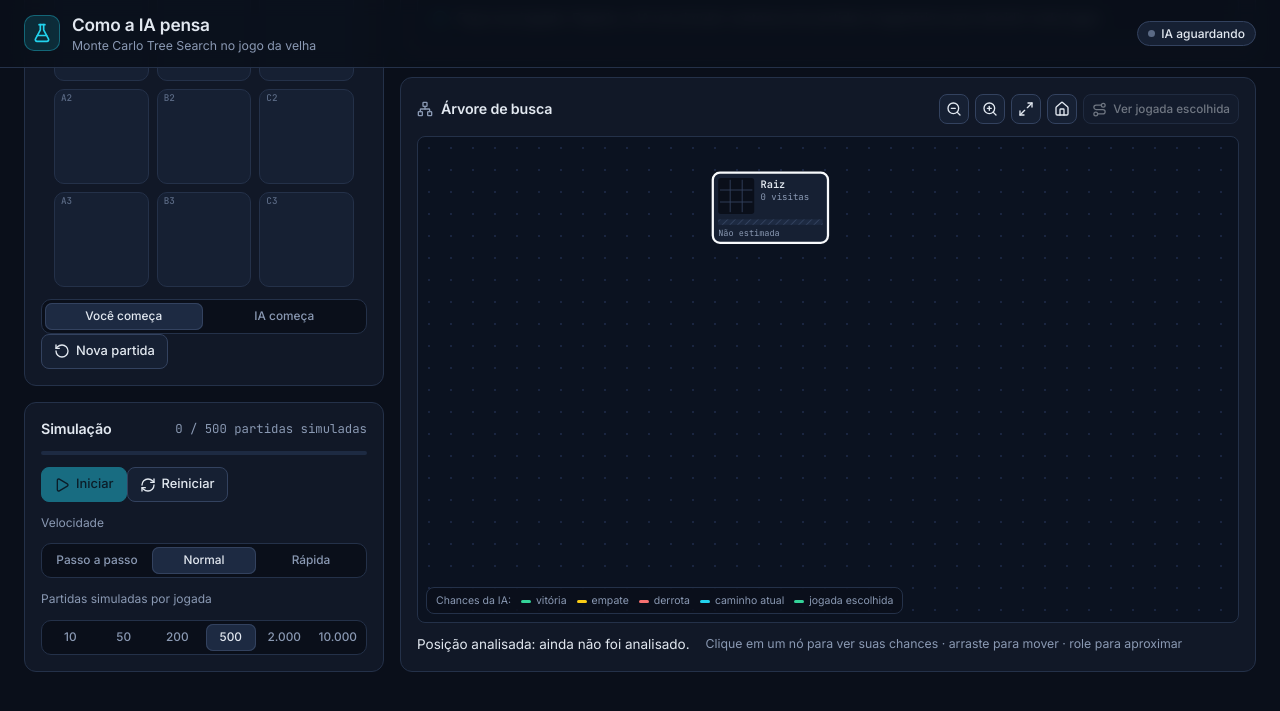
Test: the AI answers a human move with a legal MCTS move
The image size is (1280, 711).
(page scrolled)
Click the radio button labelled "Rápida". click: (311, 561)
box: x1=259 y1=547 x2=363 y2=574
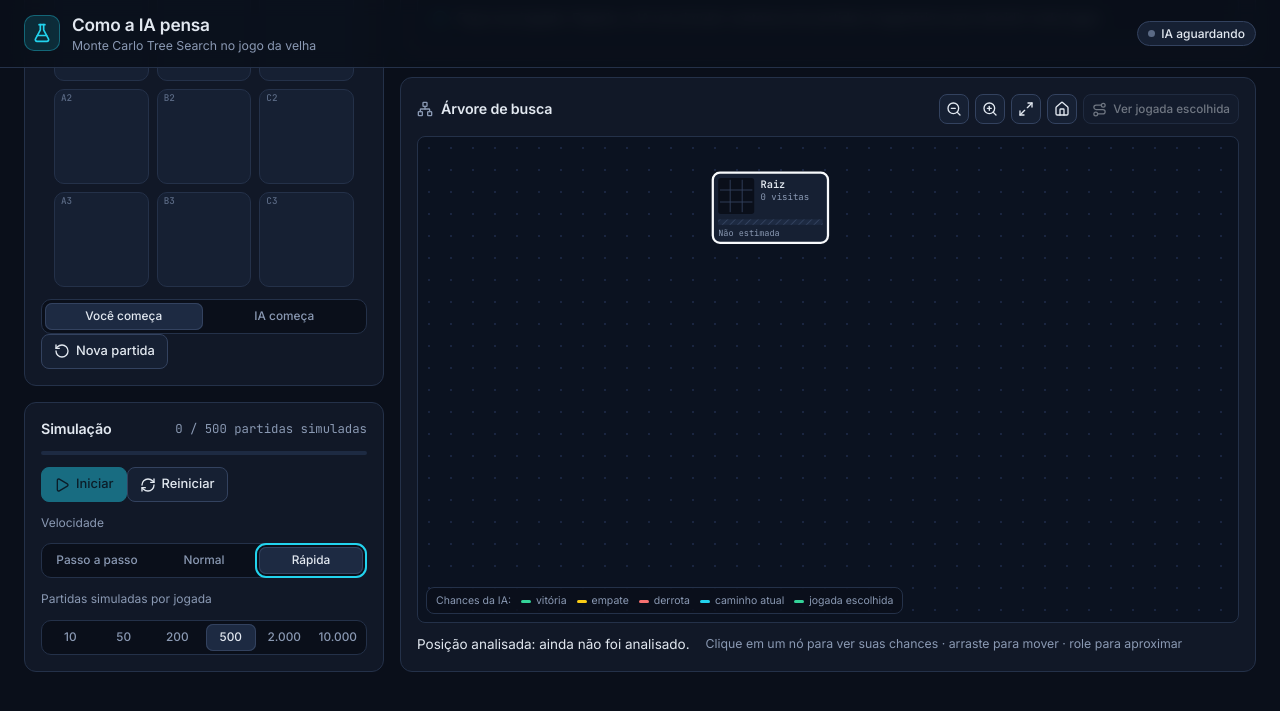
Click the cell "B2". click: (204, 137)
box: x1=157 y1=89 x2=251 y2=184
(page scrolled)
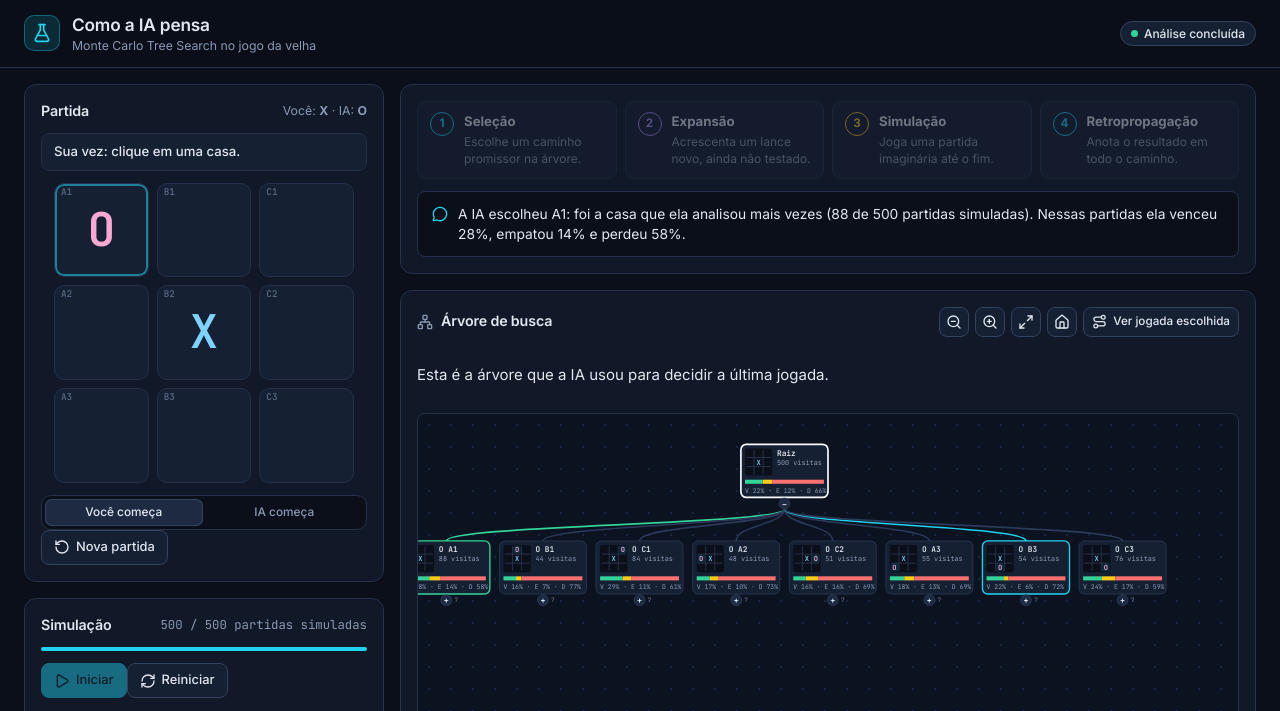
Expected: the number of cells named ": O" is 1, x1=54 y1=183 x2=149 y2=277
Result: the cell named "B2: X" is shown at x1=157 y1=285 x2=251 y2=380
